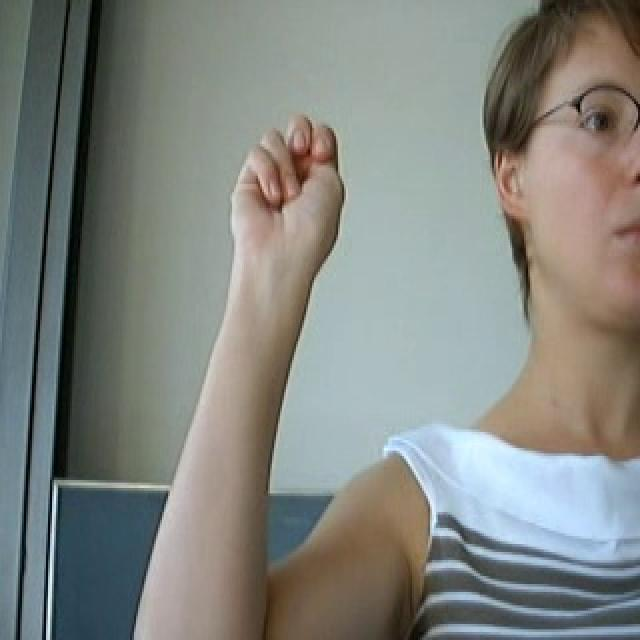N: (219, 116, 366, 282)
